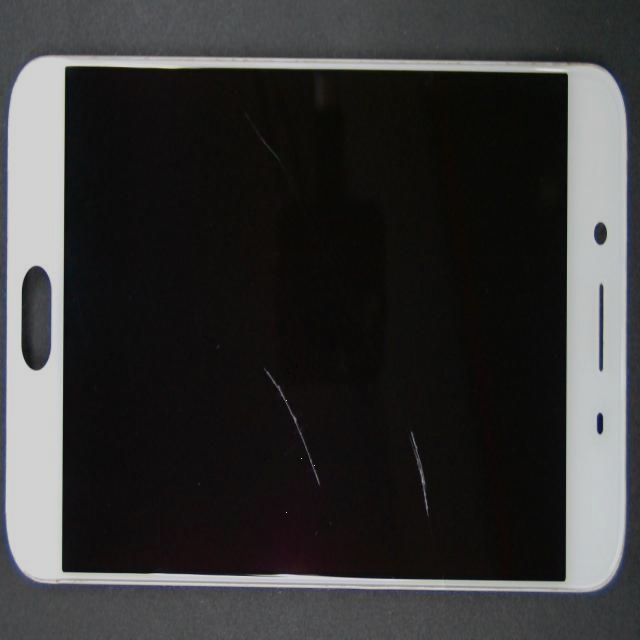scratch: (213, 270, 640, 640), (159, 261, 478, 640)
